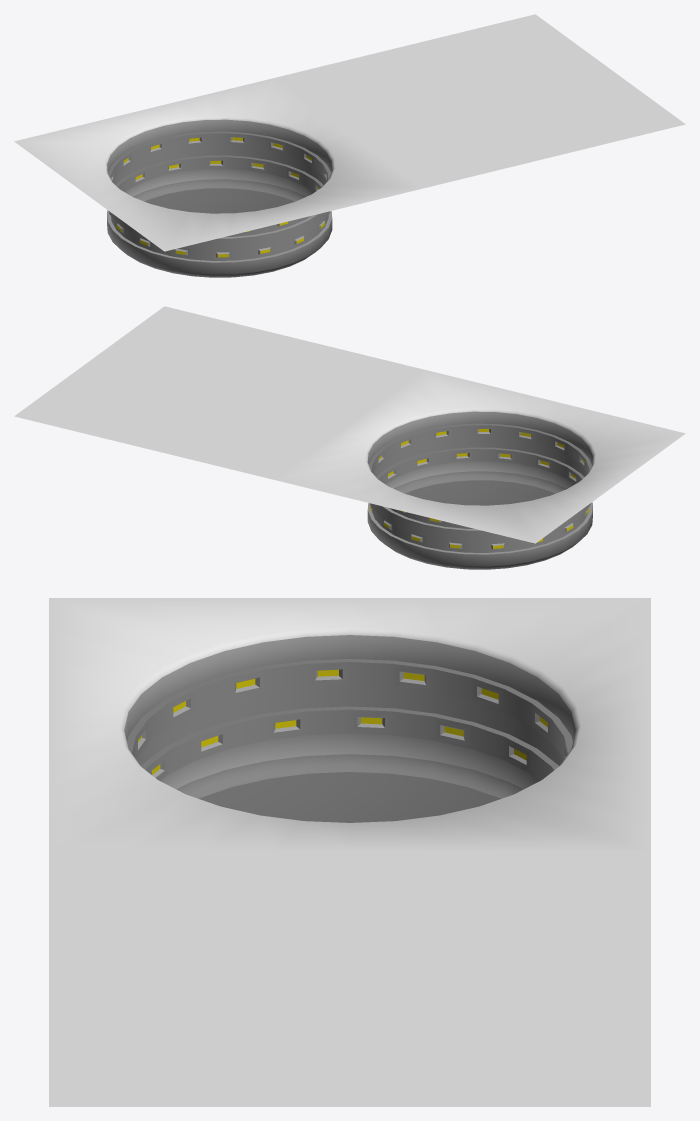
The model's file is Constructor.fbx.
3 renders of one model, top to bottom at view 1: azimuth 30°, elevation 25°; view 2: azimuth 150°, elevation 25°; view 3: azimuth 270°, elevation 25°, orthographic. The views are drawn at different scales.
Visible parts, largest first — view 1: Yama, Floor; view 2: Yama, Floor; view 3: Yama, Floor.
Boxes of the visible parts, bbox=[...] form: Yama: bbox=[14, 78, 424, 277]; Floor: bbox=[275, 14, 685, 187]; Yama: bbox=[275, 370, 685, 569]; Floor: bbox=[14, 306, 424, 479]; Yama: bbox=[49, 598, 650, 852]; Floor: bbox=[49, 852, 650, 1106].
Size of the model in its own units: 16 by 2 by 8.
